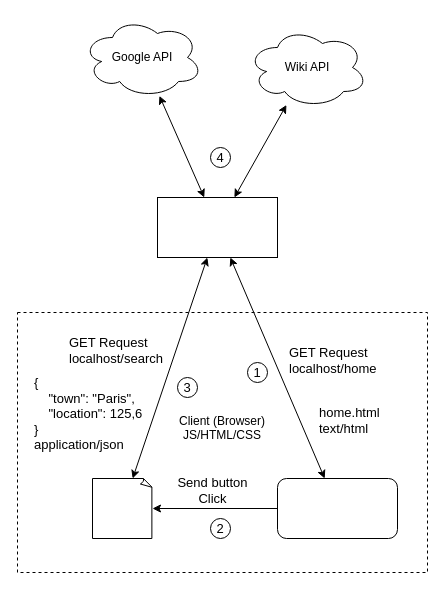
Some shapes in this 445 by 590 pixel diagram are drawn without their labels. Here are the shapes that lost their labels. From the top down, the box of each, then its label:
(156, 196, 278, 258): Server (Python Project)
(92, 478, 152, 538): JS File (home.js)
(276, 478, 398, 538): Home page
